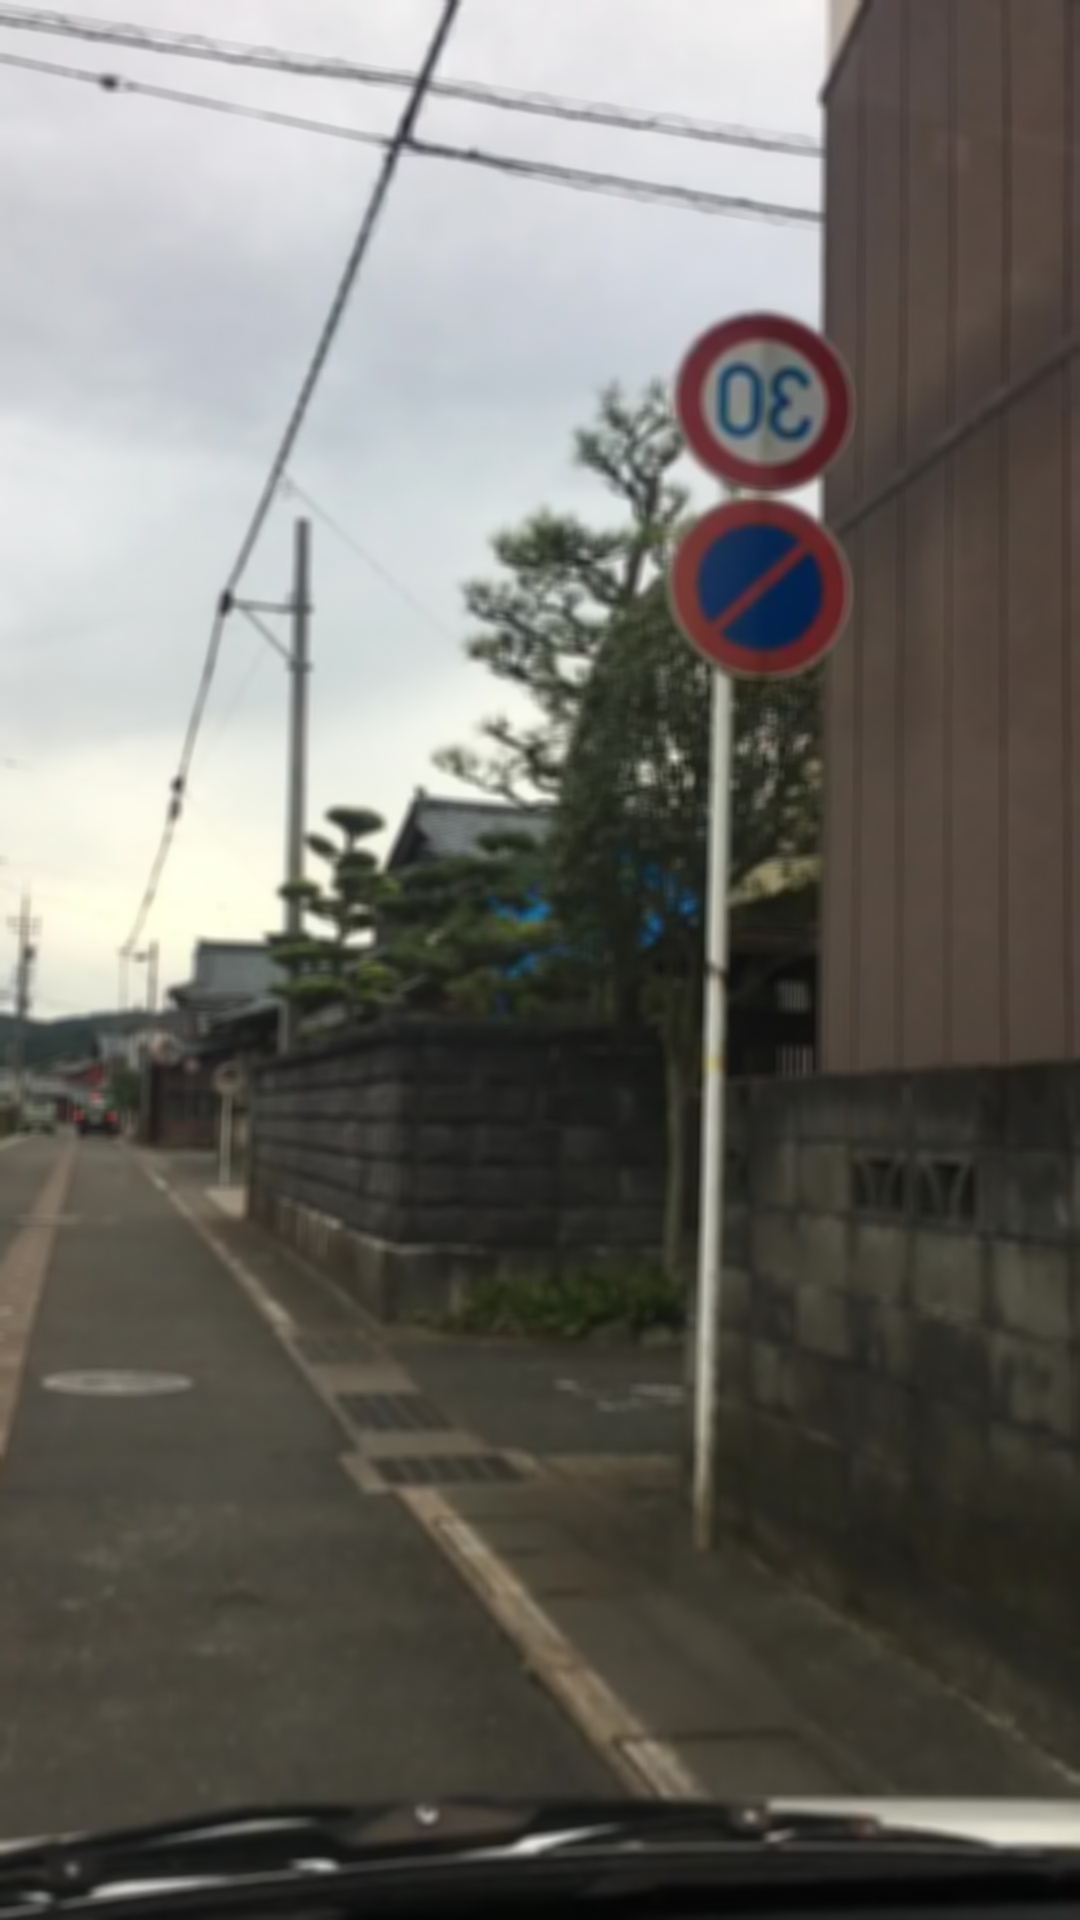Prohibition_sign: (674, 495, 851, 662)
Speed_sign: (676, 302, 851, 488)
